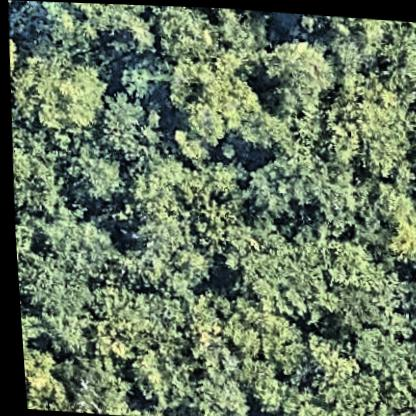tree-top: (108, 165, 199, 294), (319, 63, 416, 178), (13, 211, 116, 316), (219, 217, 321, 311), (327, 325, 416, 416), (163, 57, 257, 142), (257, 26, 341, 118), (20, 53, 111, 137), (317, 245, 400, 333), (284, 157, 374, 238), (216, 299, 300, 382), (84, 283, 165, 366), (43, 1, 158, 57), (317, 13, 416, 76), (90, 88, 162, 164), (7, 128, 63, 221), (50, 350, 131, 414), (56, 139, 127, 209), (234, 153, 301, 227), (148, 4, 219, 69), (370, 177, 416, 268), (211, 7, 272, 69), (175, 365, 248, 416), (296, 330, 353, 388), (18, 338, 58, 410), (162, 122, 215, 169), (7, 26, 23, 79)
